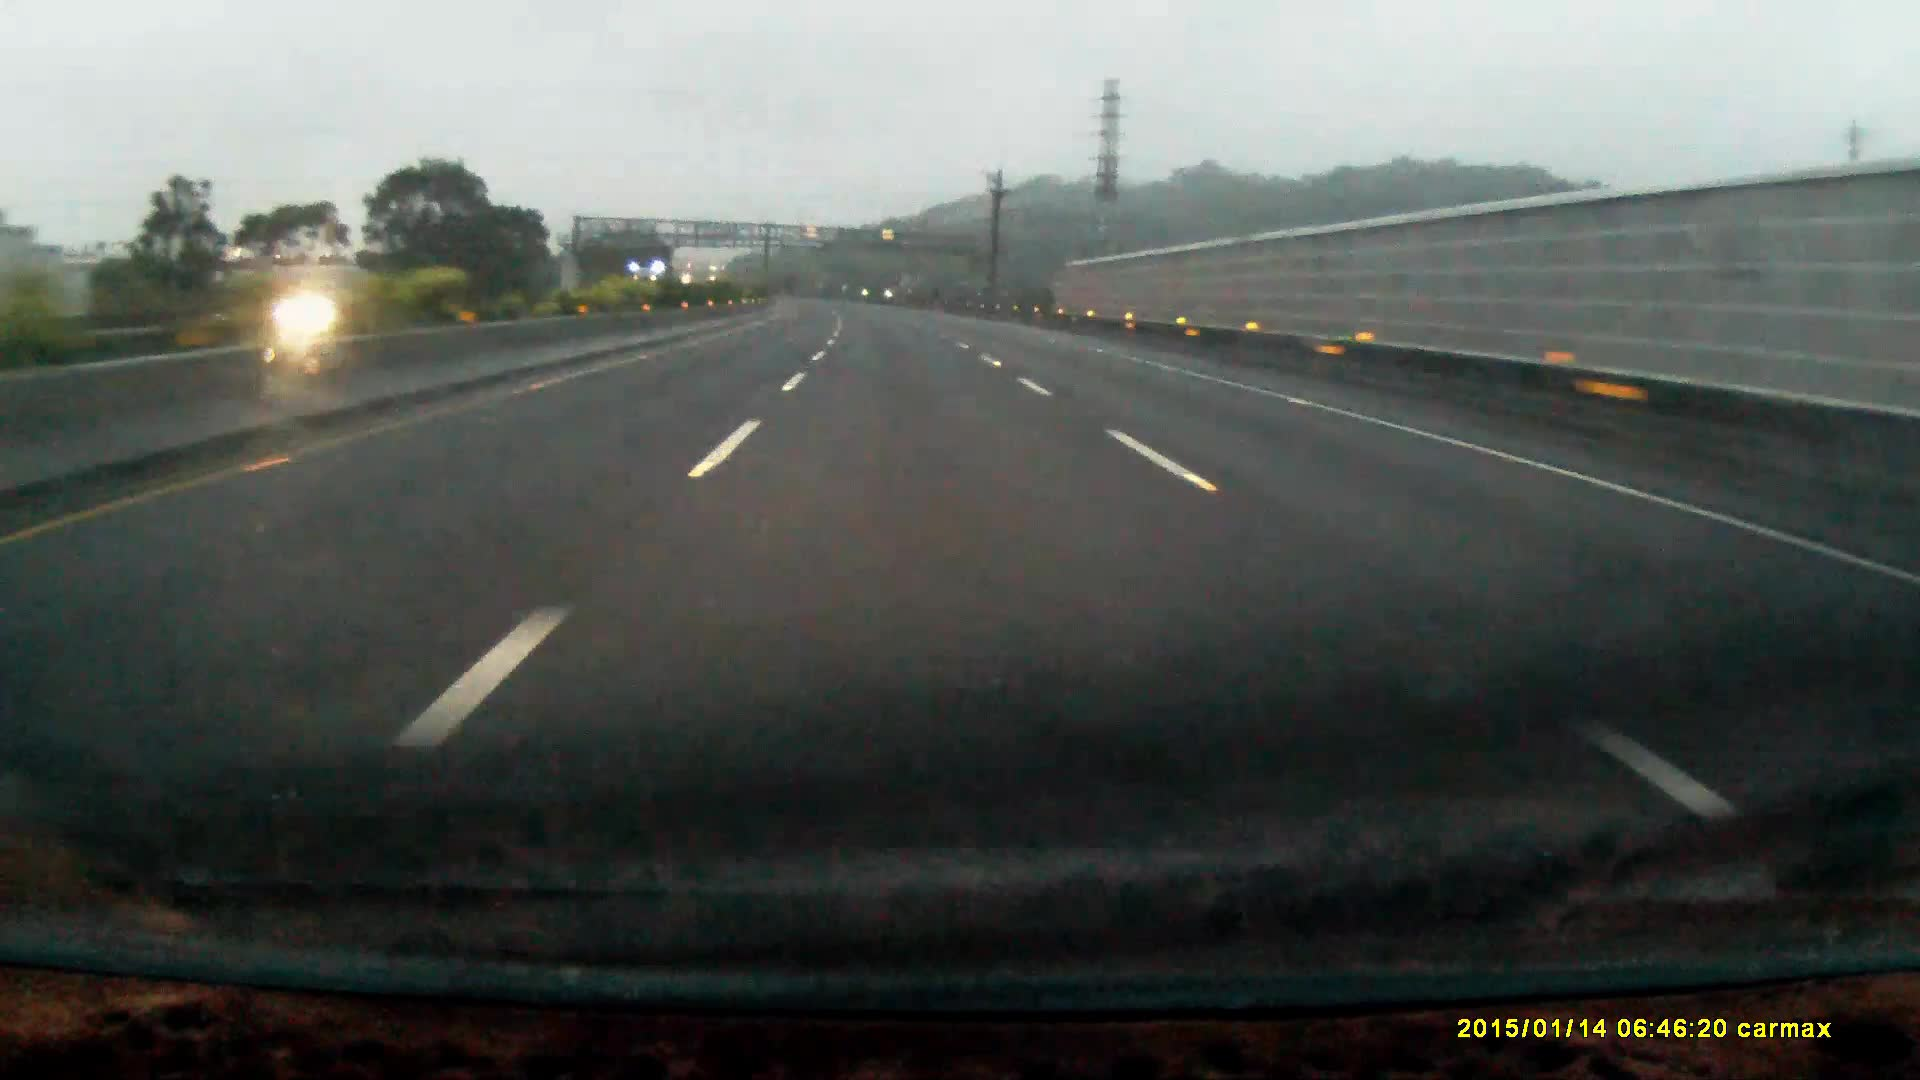vehicle: (632, 262, 678, 309)
